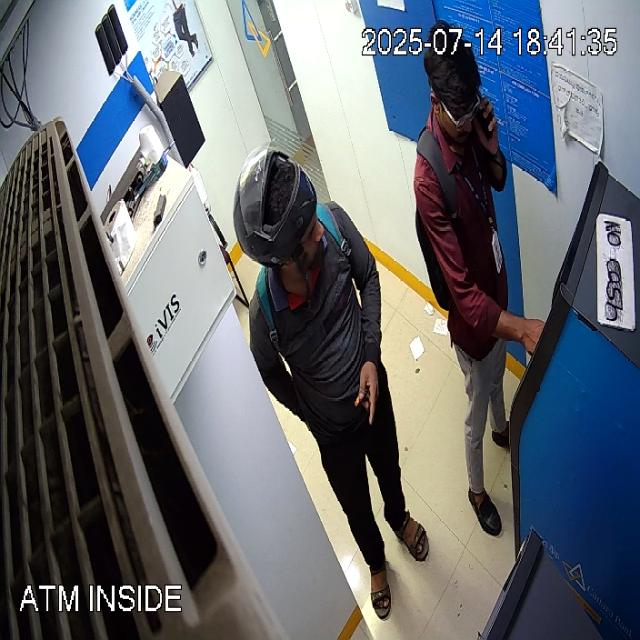helmet: (232, 141, 326, 300), (423, 22, 480, 144)
